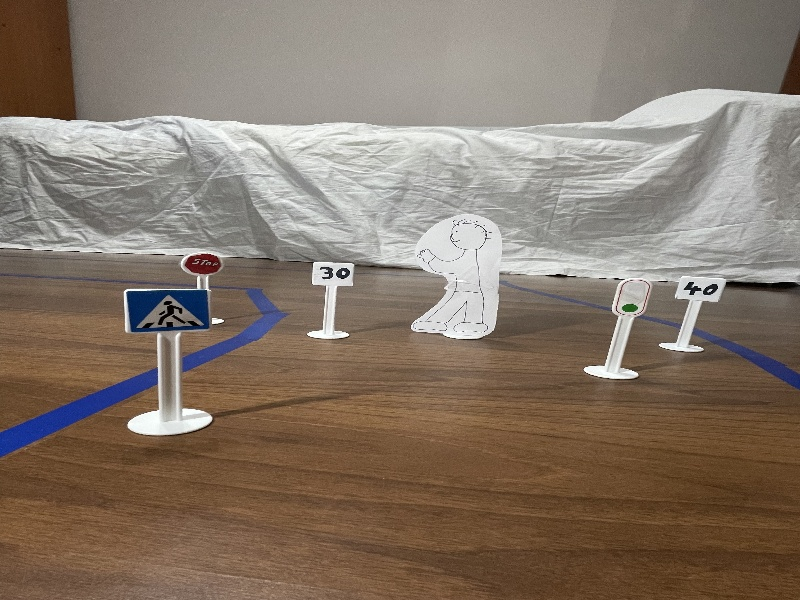persoana: (412, 207, 515, 352)
semafor_verde: (611, 269, 651, 318)
stop: (178, 251, 224, 277)
trecere_pietoni: (116, 285, 216, 339)
viteza_limita_30: (308, 255, 359, 297)
viteza_limita_40: (671, 271, 733, 311)
